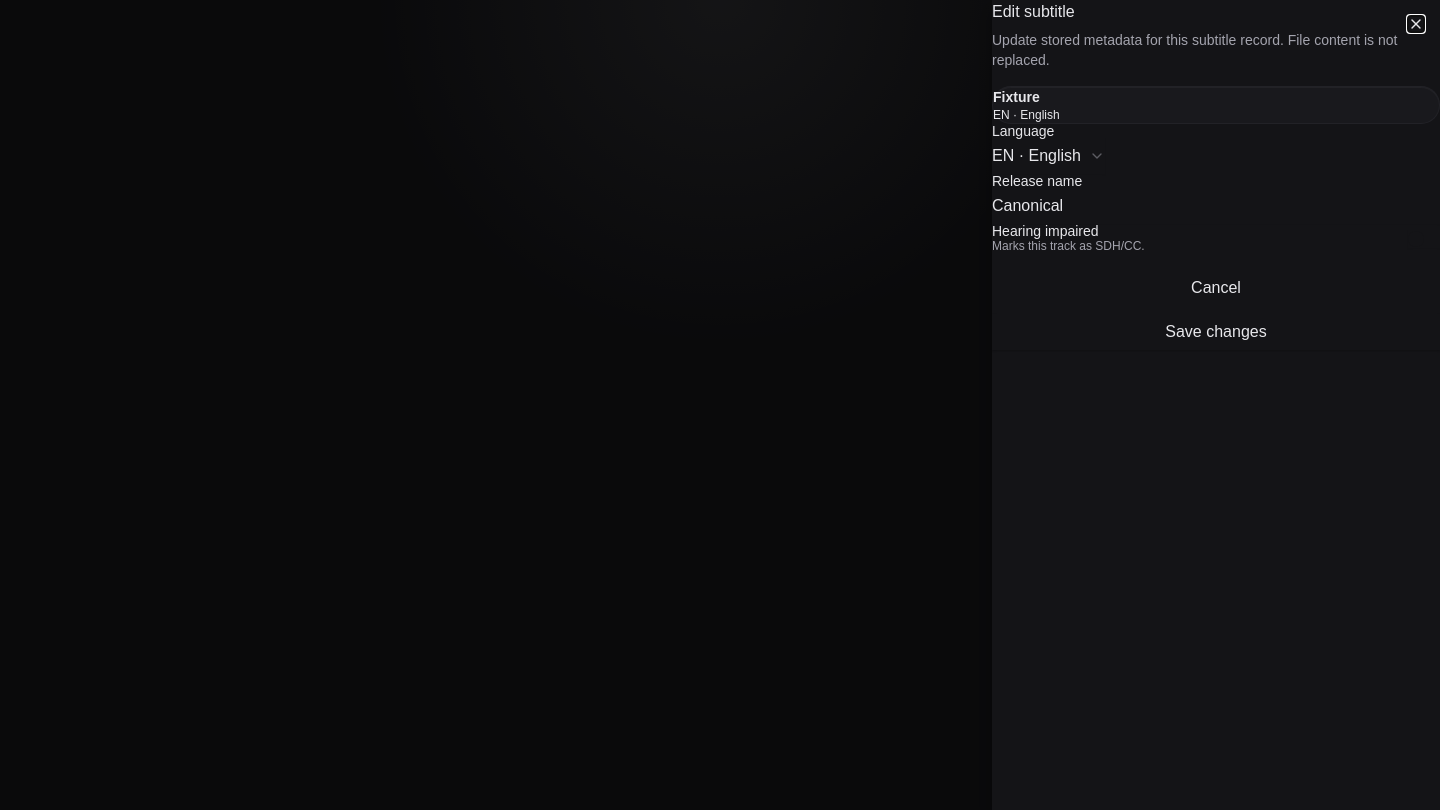
Scenario: retains the draft and blocks another save after a conflict without rereading or rebasing
Replace the text in the field labelled "Release name" with "My draft": (1216, 206) [992,188,1439,224]
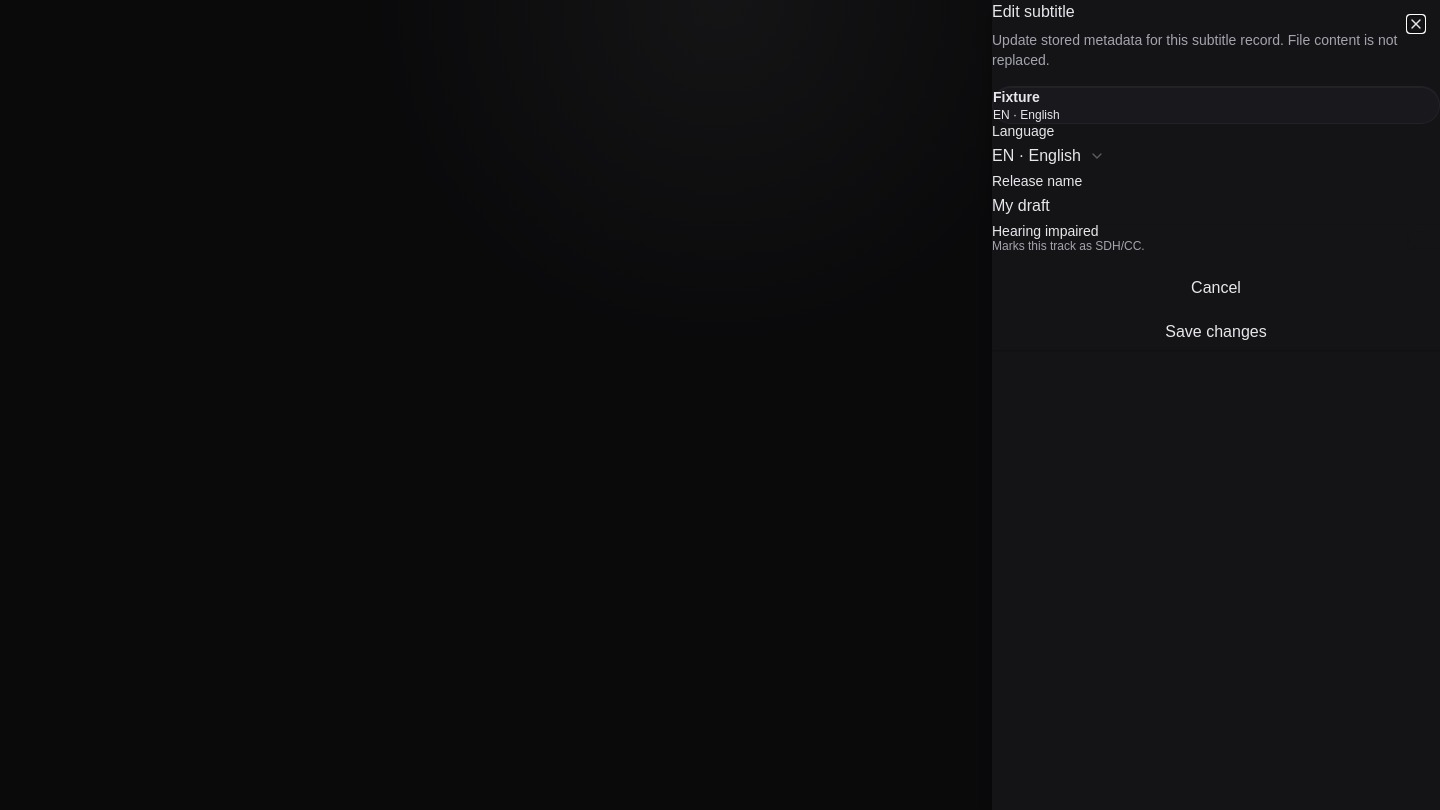
Click the button "Save changes": (1216, 332) [992,314,1439,350]
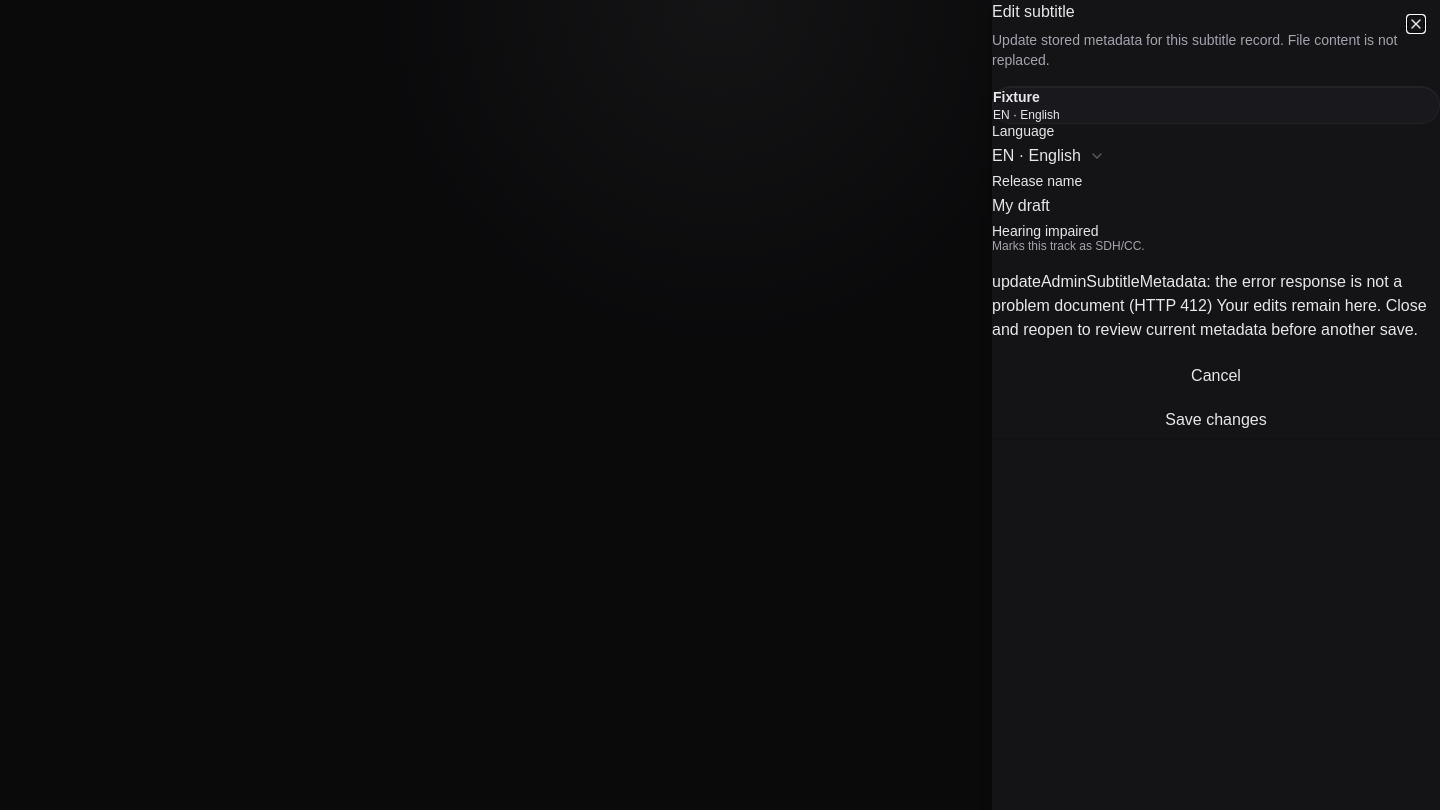
Expected: the message is shown, [992,270,1439,342]
Expected: the button "Save changes" is disabled, [992,402,1439,438]
